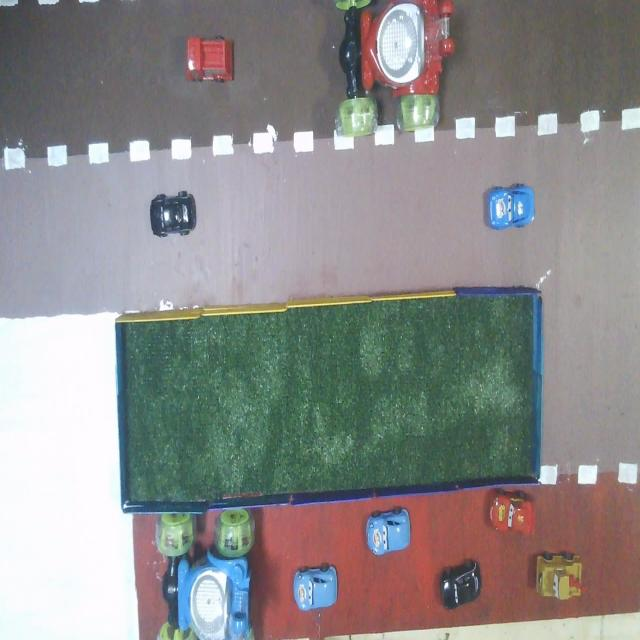driver car f: (156, 509, 254, 639)
small cars: (187, 36, 233, 82), (150, 191, 196, 237), (488, 185, 534, 229), (367, 508, 410, 555), (490, 490, 534, 534), (294, 565, 337, 610), (441, 561, 481, 609)
